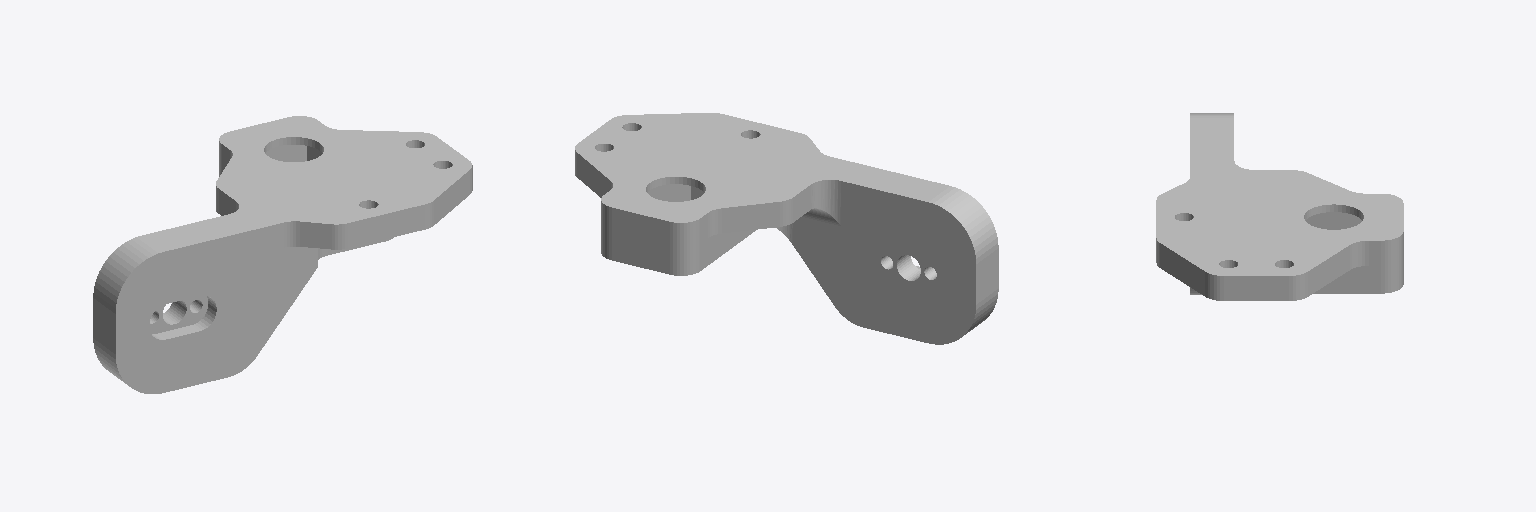
File: wrist_2.obj
3 views of the same model, side by side, from view 1: azimuth 30°, elevation 25°; view 2: azimuth 150°, elevation 25°; view 3: azimuth 270°, elevation 25° (orthographic).
Visible parts, largest first — view 1: fabconvert.com_gripper_base; view 2: fabconvert.com_gripper_base; view 3: fabconvert.com_gripper_base.
Part boxes in pixels (x1,y1,x2,y2): fabconvert.com_gripper_base: (93,116,472,393); fabconvert.com_gripper_base: (575,113,998,344); fabconvert.com_gripper_base: (1156,113,1403,300).
Size of the model in its own units: 1.21 by 0.4418 by 0.7006.